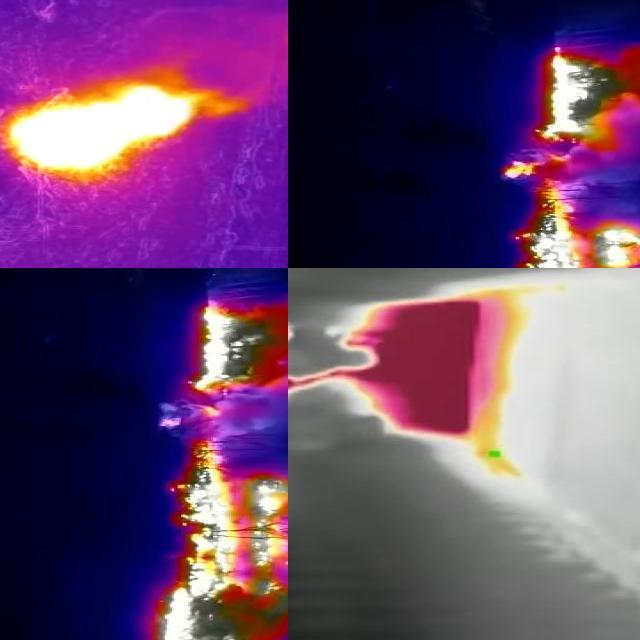fire: (289, 301, 518, 445), (154, 442, 289, 640), (6, 81, 218, 175), (182, 284, 289, 440), (501, 160, 640, 269), (540, 49, 640, 149)
